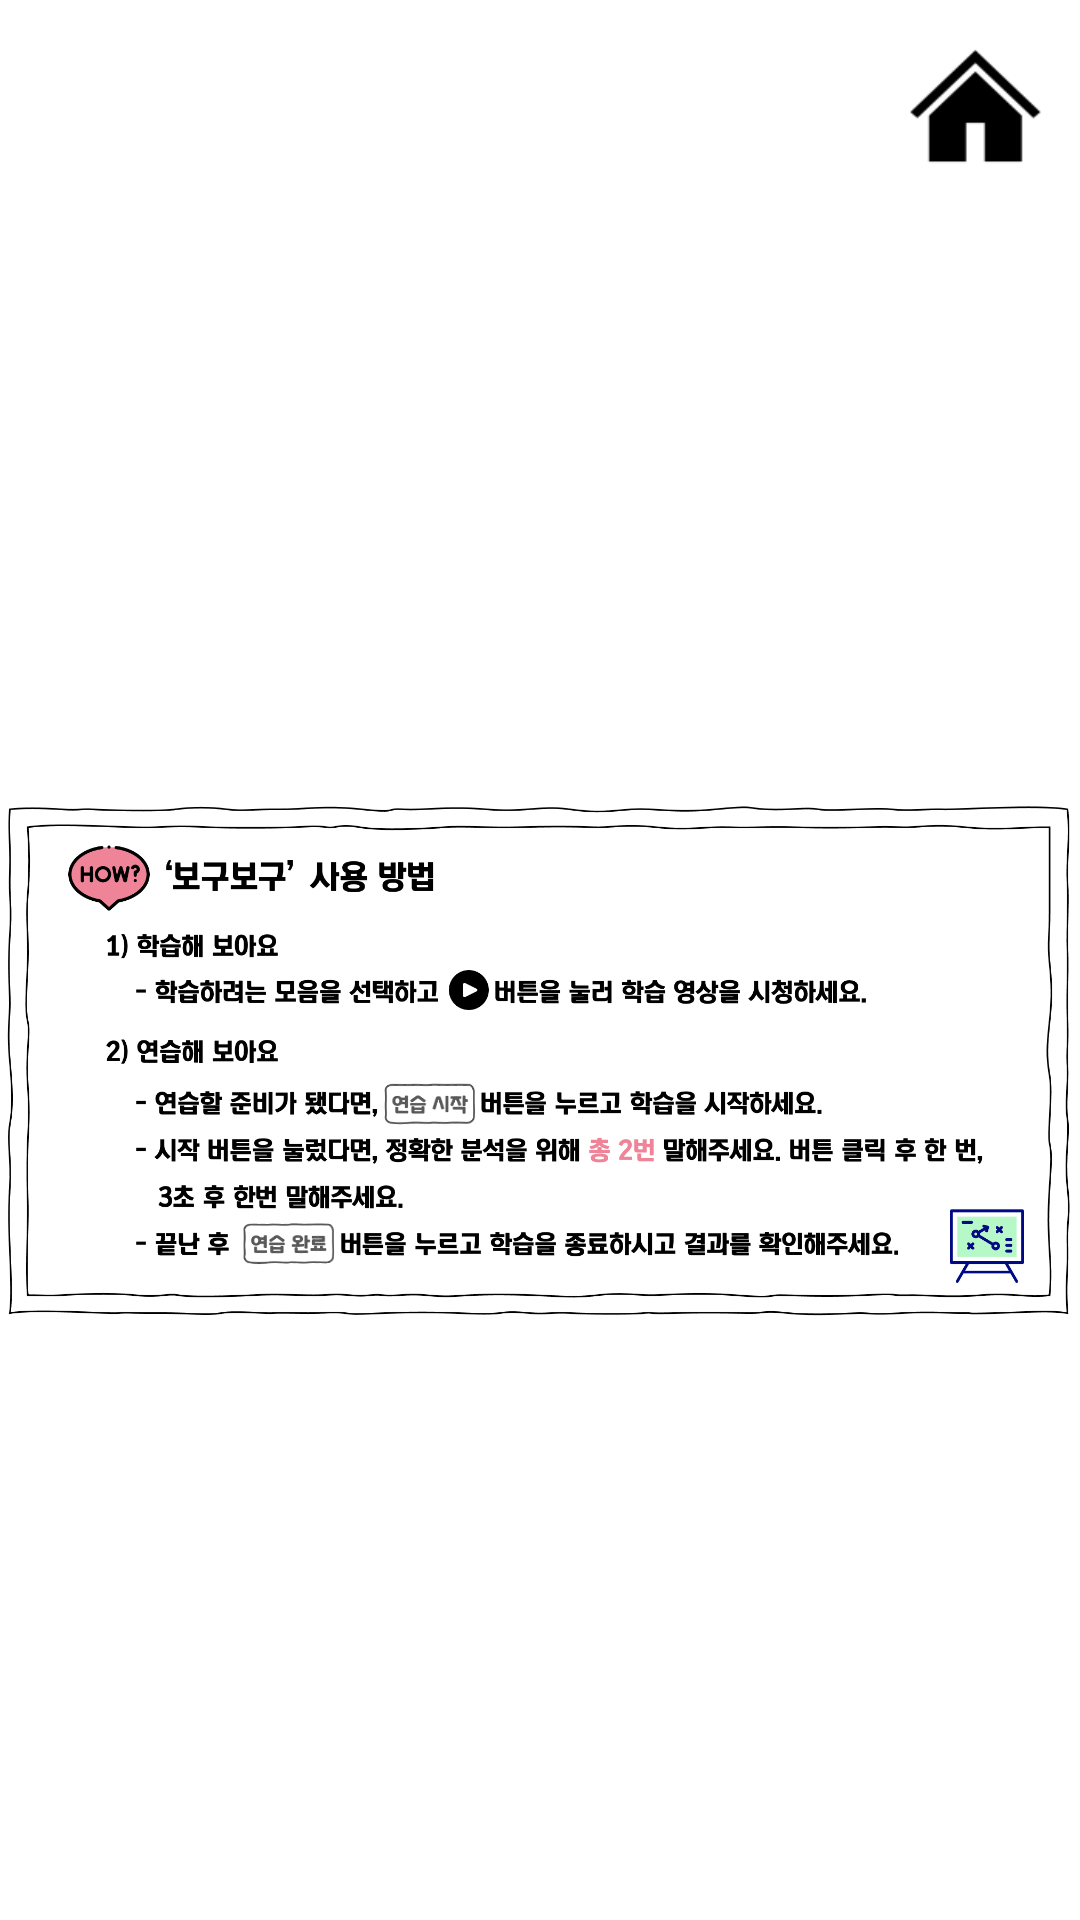

Icon bounding boxes for this 1080x1920 phone screenshot, format box=[x1, y1, x2, y2]:
home: box=[910, 50, 1041, 162]
